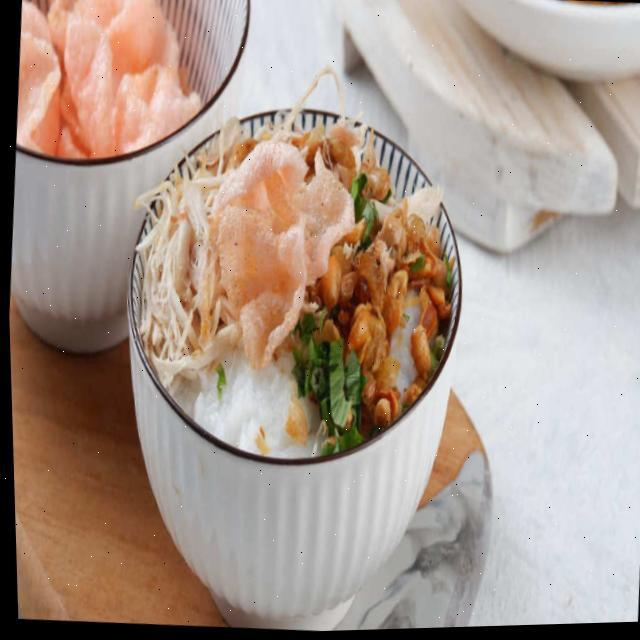bubur ayam: (122, 115, 462, 468)
mangkuk: (98, 83, 486, 637), (0, 0, 262, 368), (448, 0, 640, 93)
